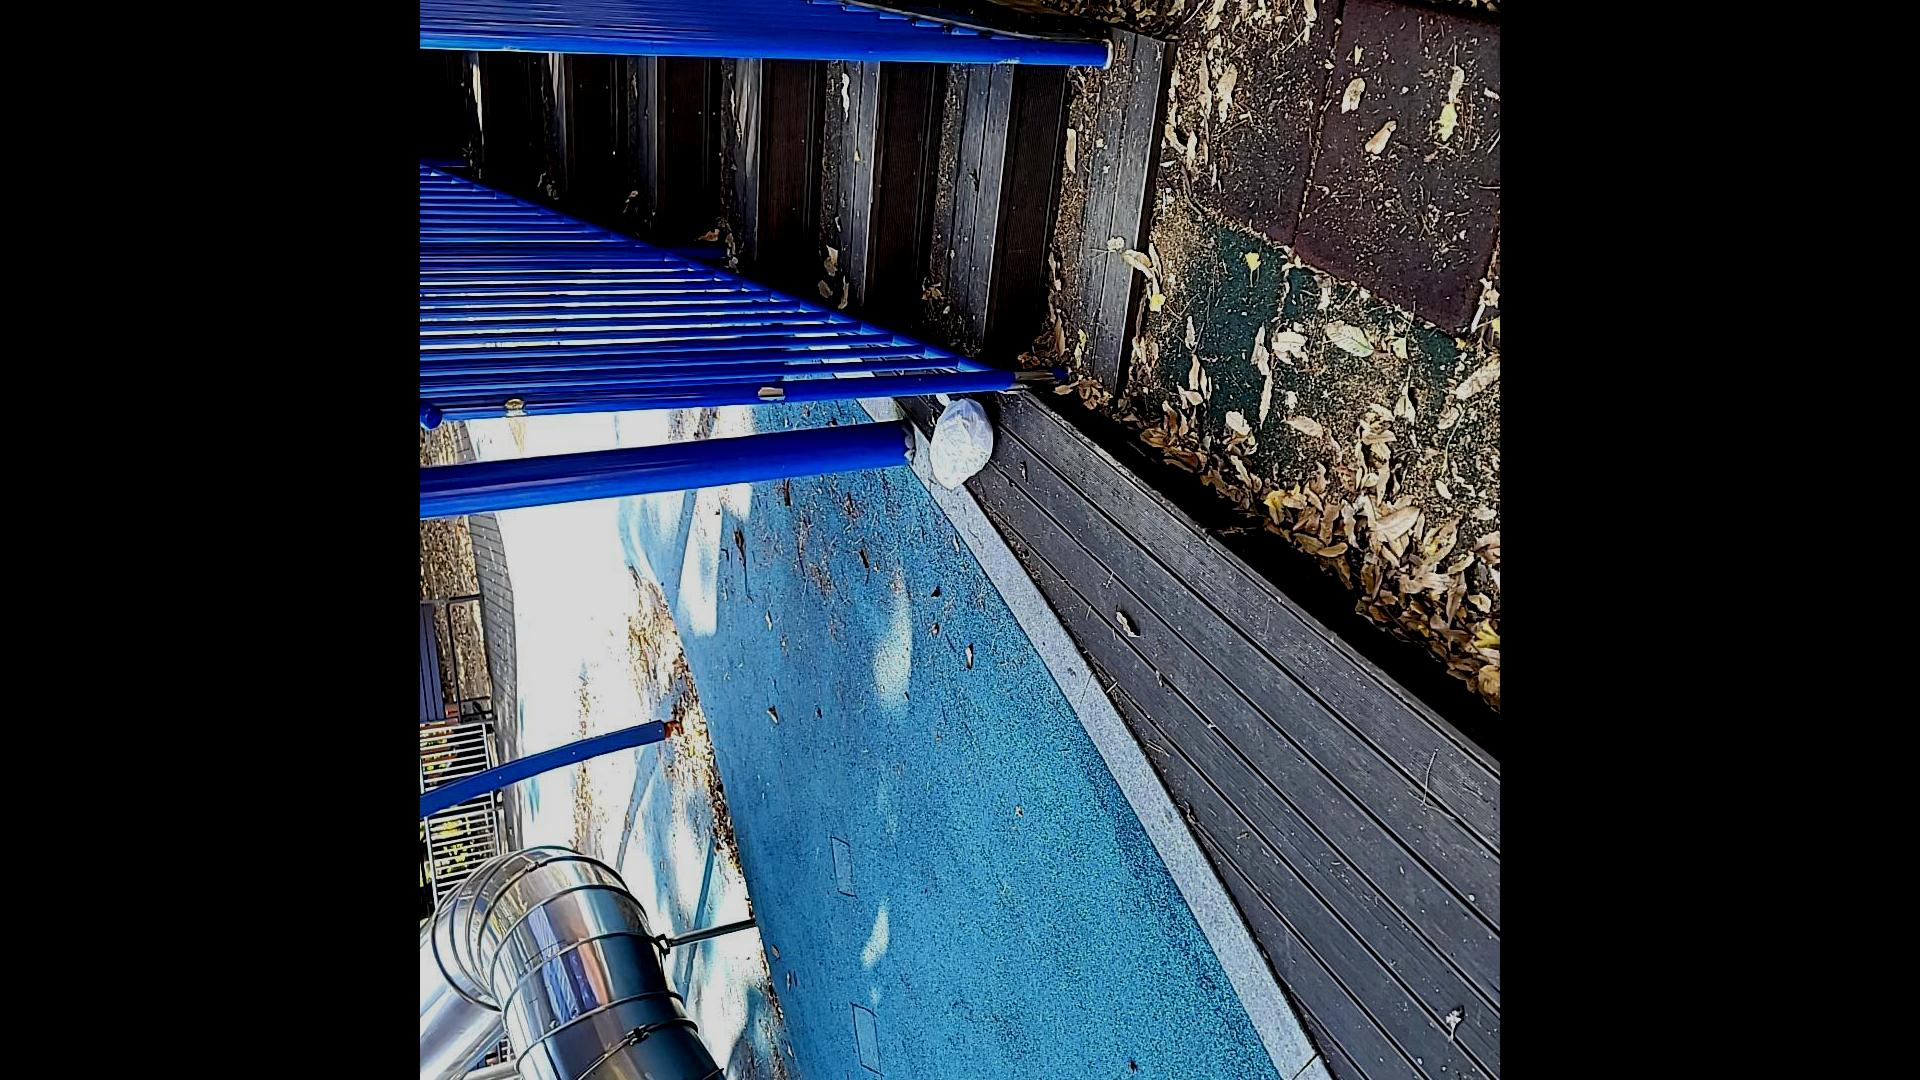white_bag: (927, 389, 1001, 491)
